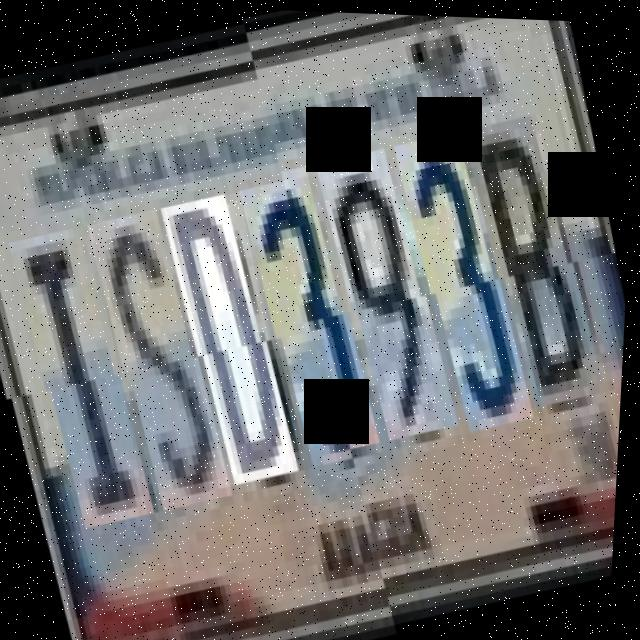3: (389, 133, 548, 444), (232, 168, 393, 471)
9: (311, 150, 472, 452)
B: (457, 116, 618, 419)
D: (154, 187, 311, 488)
I: (2, 220, 167, 534)
S: (81, 203, 244, 514)
